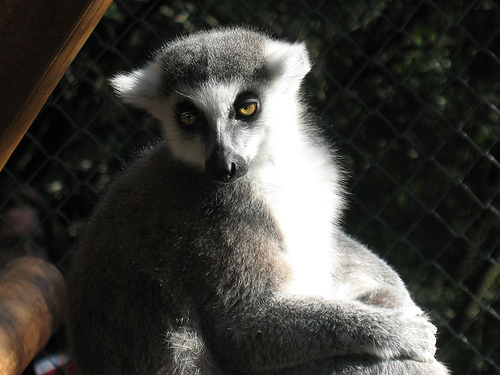cat: (59, 23, 451, 374)
